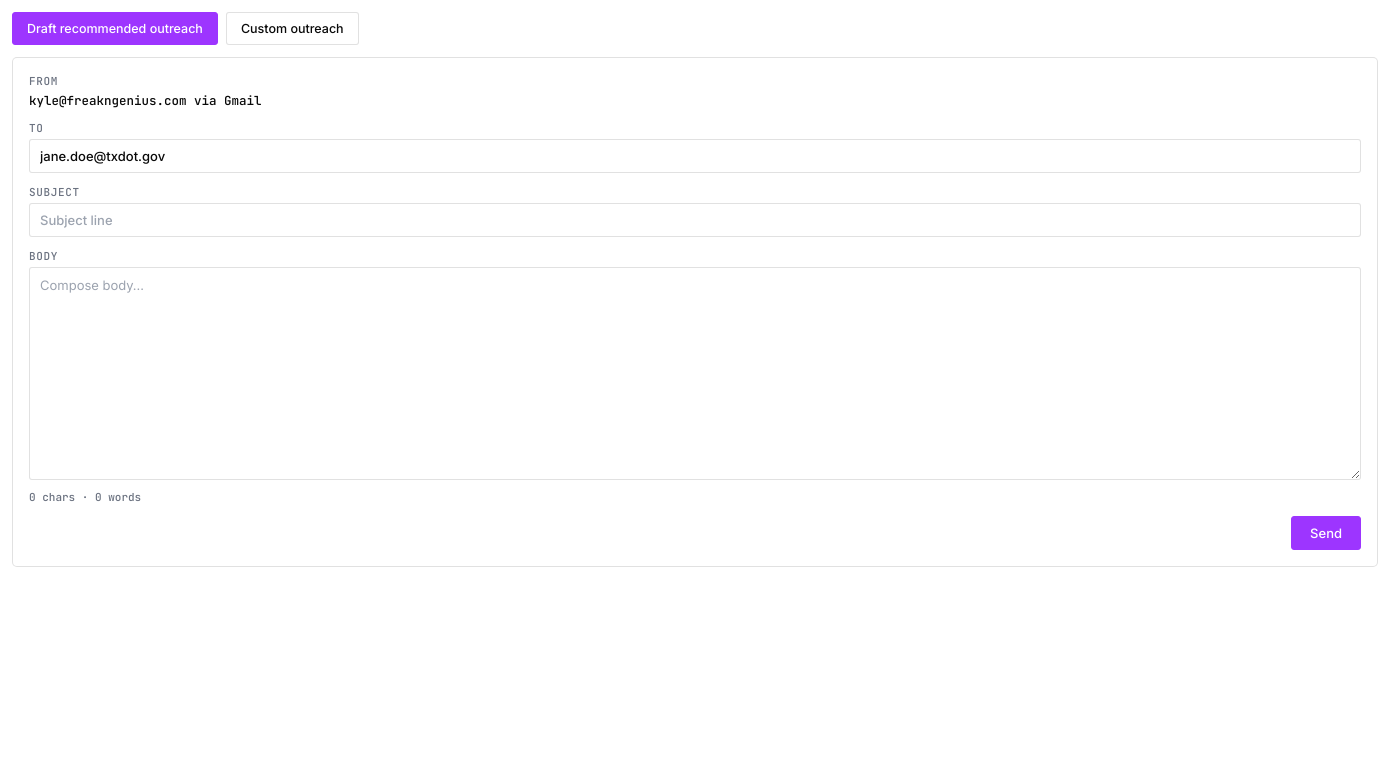
Test: OutreachSection — Draft recommended outreach › surfaces drafter error when the endpoint fails
Click the button with test id "outreach-draft-recommended": point(115, 28) [12,12,218,45]
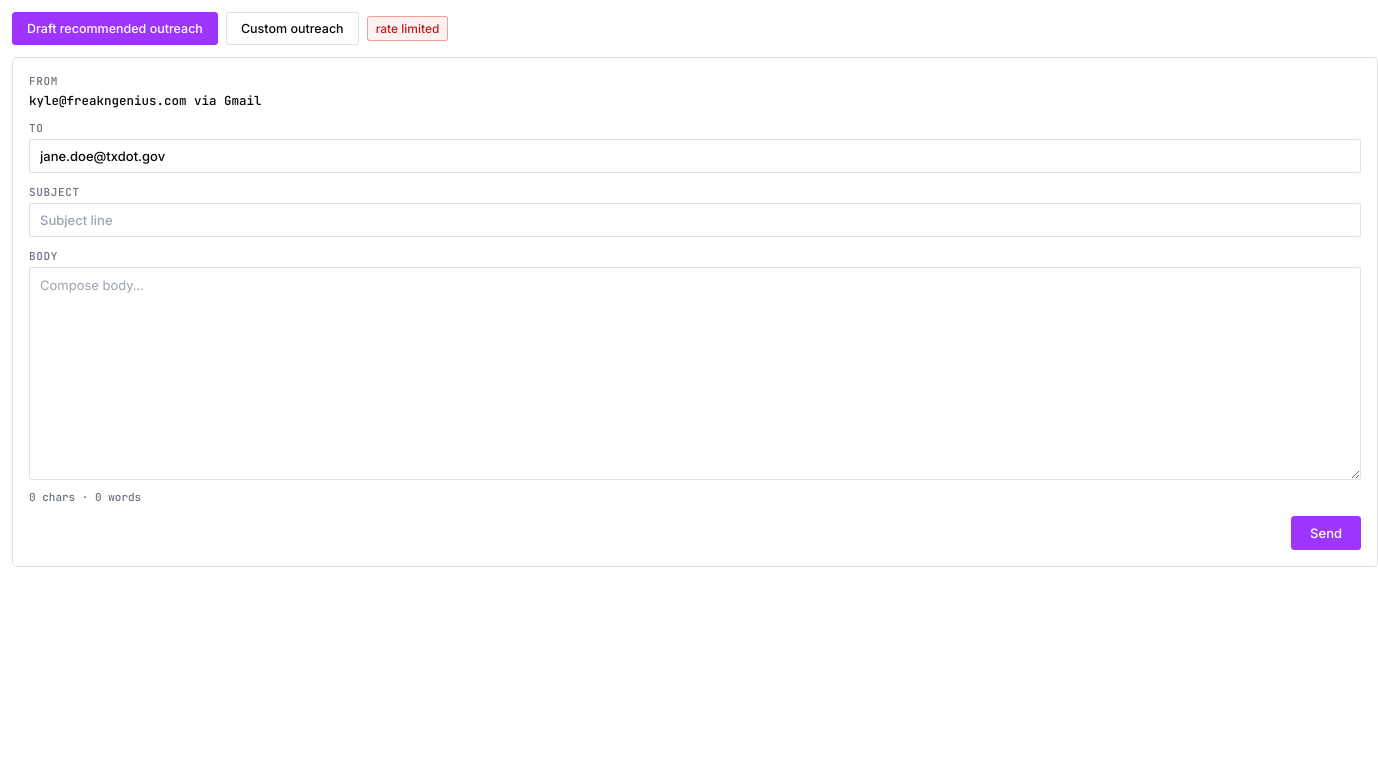
expect the text with test id "outreach-draft-error" reads "rate limited": met, box [376,21,440,36]
